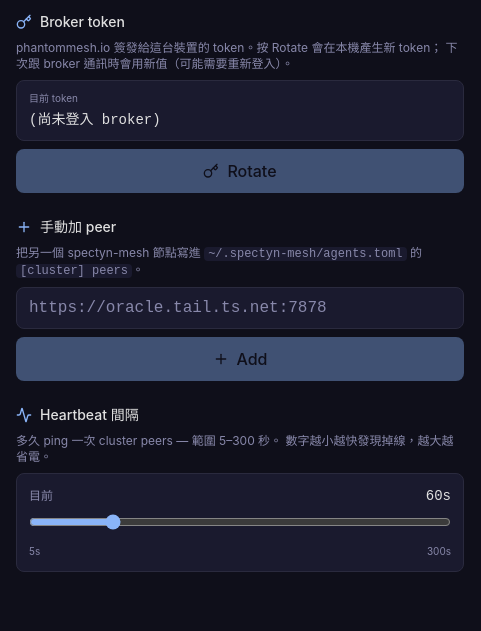
Test: <MobileNodeAdmin /> — heartbeat-interval slider › initialises slider from get_heartbeat_interval and commits on release
The width and height of the screenshot is (481, 631).
Check: the text with test id "heartbeat-value" reads "60s", box [426,486,451,506]
Set the slider with test id "heartbeat-slider" to "120" at (195, 522), box [29,514,451,530]
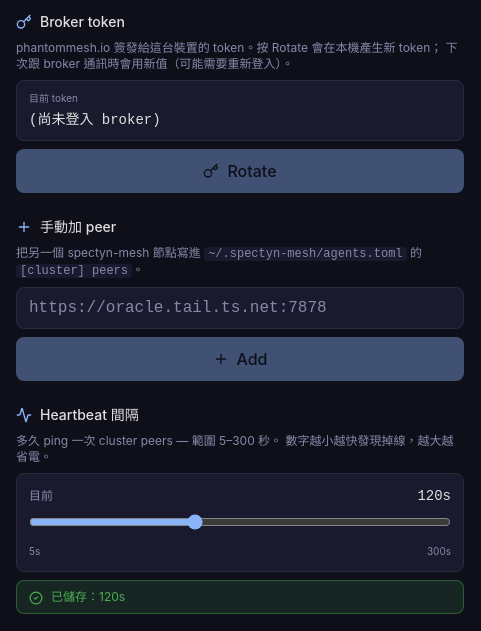
Check: the text with test id "heartbeat-value" reads "120s", box [417,486,451,506]
Check: the element with test id "heartbeat-pill" shows "120", box [16,580,464,614]
